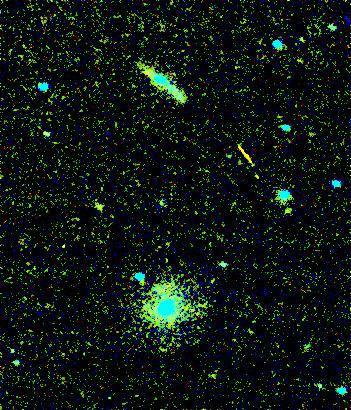star: (274, 198, 304, 228)
